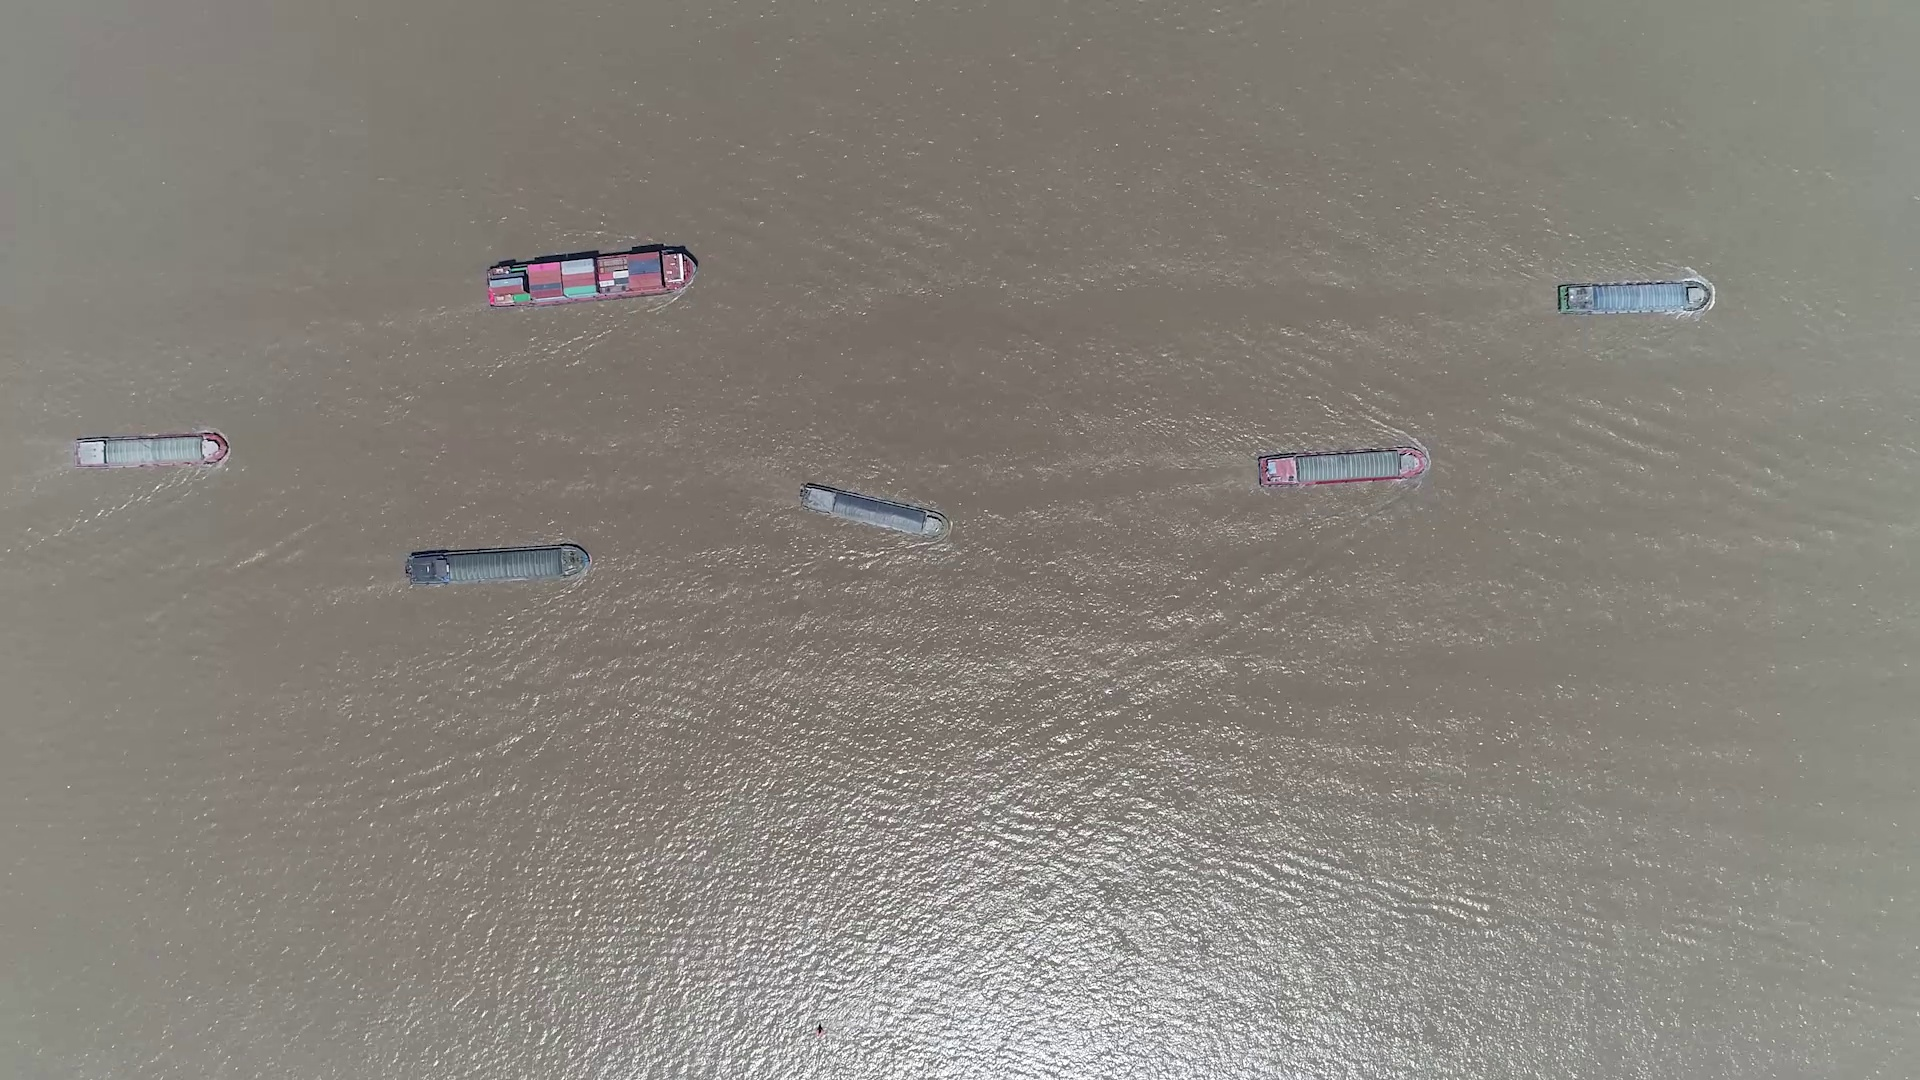ship: (487, 248, 698, 307), (799, 483, 945, 538), (406, 545, 589, 585), (1255, 446, 1428, 487), (75, 434, 229, 468), (1557, 284, 1710, 315)
